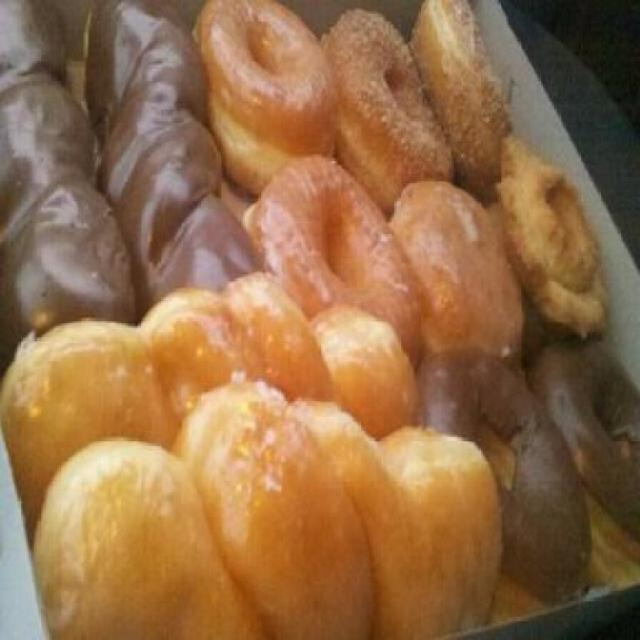Donuts: (4, 2, 638, 638)
